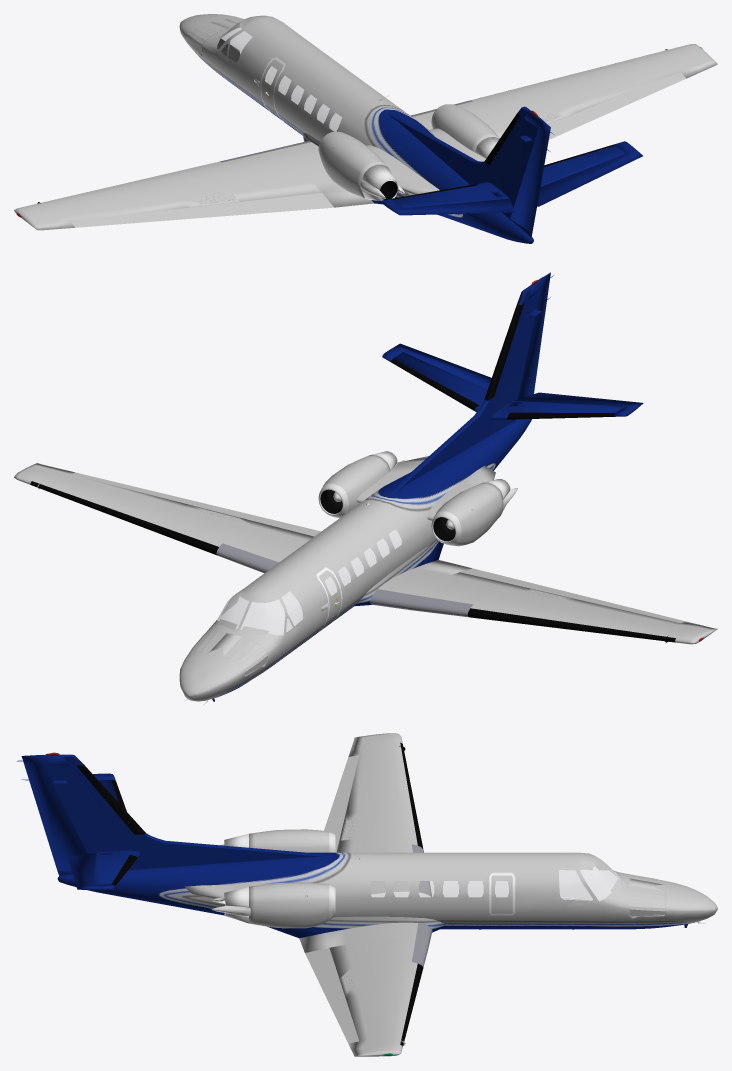
File: jet.glb
3 renders of one model, top to bottom at view 1: azimuth 30°, elevation 25°; view 2: azimuth 150°, elevation 25°; view 3: azimuth 270°, elevation 25°, orthographic. The views are drawn at different scales.
Parts seen in each view (by area): view 1: Fuselage, LHwing_002, RHwing_003, LHwing_003, Fin, RHwing_002, Hstab, LEngine, Rudder, LHflap, LHwing_001, REngine (+11 smaller); view 2: Fuselage, Fin, RHwing_002, LHwing_002, RHwing_003, LHwing_003, Hstab, LEngine, Glass, REngine, Rudder, Pylons (+14 smaller); view 3: Fuselage, Fin, LHwing_003, RHwing_002, REngine, RHwing_003, Rudder, LHwing_002, RHwing_001, LEngine, Glass, Glass_001 (+8 smaller).
Part boxes in pixels (x1,y1,x2,y2): Fuselage: [179, 14, 533, 243]; LHwing_002: [154, 150, 321, 207]; RHwing_003: [543, 44, 717, 112]; LHwing_003: [14, 176, 187, 230]; Fin: [388, 106, 538, 237]; RHwing_002: [414, 82, 576, 137]; Hstab: [393, 145, 625, 207]; LEngine: [319, 132, 387, 197]; Rudder: [510, 110, 553, 232]; LHflap: [188, 193, 333, 218]; LHwing_001: [278, 142, 374, 207]; REngine: [432, 104, 499, 152]; Fuselage: [179, 419, 531, 701]; Fin: [388, 286, 541, 494]; RHwing_002: [154, 504, 313, 561]; LHwing_002: [414, 572, 576, 618]; RHwing_003: [14, 463, 187, 523]; LHwing_003: [543, 599, 717, 644]; Hstab: [393, 352, 625, 419]; LEngine: [436, 482, 503, 546]; Glass: [217, 587, 302, 635]; REngine: [323, 455, 390, 512]; Rudder: [513, 272, 553, 420]; Pylons: [356, 456, 495, 520]; Fuselage: [57, 851, 717, 938]; Fin: [43, 754, 331, 876]; LHwing_003: [345, 733, 411, 814]; RHwing_002: [329, 937, 417, 997]; REngine: [249, 882, 329, 928]; RHwing_003: [345, 990, 411, 1056]; Rudder: [17, 752, 87, 871]; LHwing_002: [336, 808, 417, 852]; RHwing_001: [299, 922, 417, 952]; LEngine: [249, 829, 329, 852]; Glass: [559, 856, 619, 900]; Glass_001: [370, 881, 508, 897].
Bounding box in the file's own units: 15.62 × 4.06 × 14.48.
7 materials, 5 textured.
